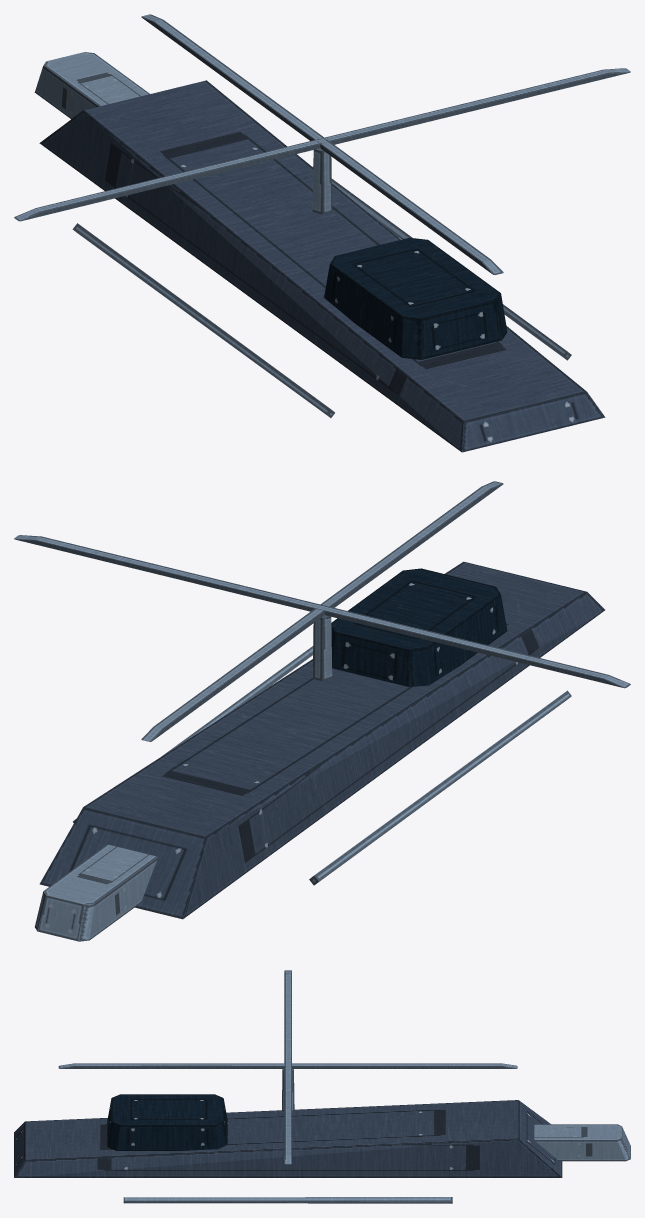
The model's file is unit-attack_heli.fbx.
The picture shows the model from 3 angles, top to bottom: view 1: azimuth 30°, elevation 25°; view 2: azimuth 150°, elevation 25°; view 3: azimuth 270°, elevation 25°; orthographic projection. The views are drawn at different scales.
Visible parts, largest first — view 1: unit-attack_heli; view 2: unit-attack_heli; view 3: unit-attack_heli.
Boxes of the visible parts, x1=… form: unit-attack_heli: x1=14, y1=14, x2=630, y2=452; unit-attack_heli: x1=14, y1=481, x2=630, y2=941; unit-attack_heli: x1=14, y1=970, x2=630, y2=1203.
Bounding box in the file's own units: 816 × 202 × 1097.
Materials: 1 (1 with a texture image).
